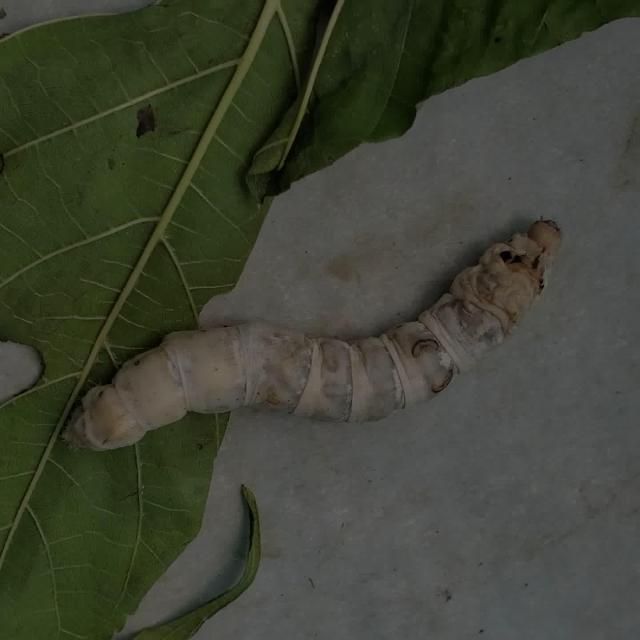Grasserie: (54, 171, 578, 498)
